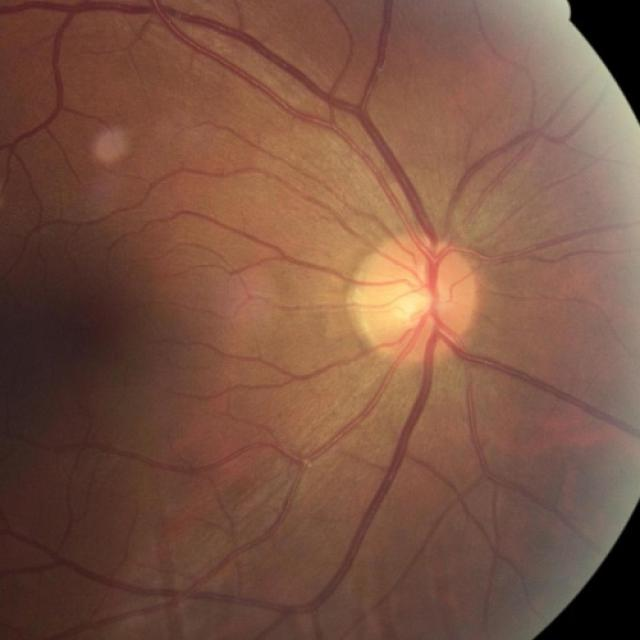OC: (393, 286, 430, 323)
OD: (356, 233, 480, 361)
